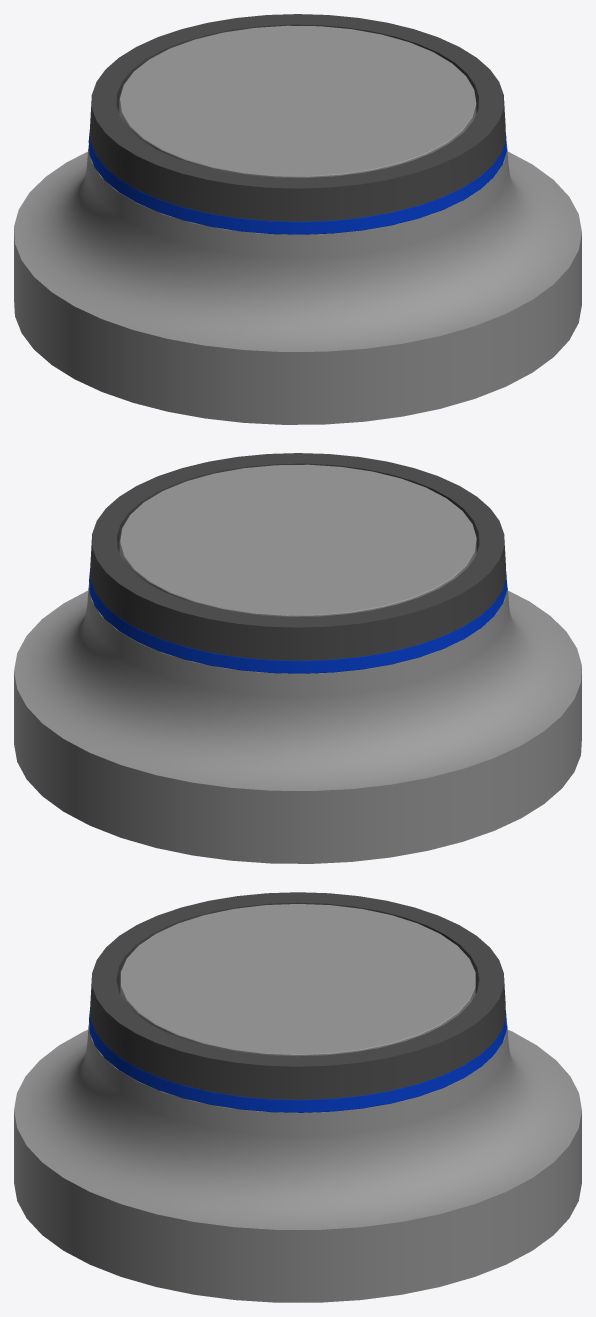
3 views of the same model, one above another, from view 1: azimuth 30°, elevation 25°; view 2: azimuth 150°, elevation 25°; view 3: azimuth 270°, elevation 25° (orthographic).
Parts seen in each view (by area): view 1: S5-FBXASC194FBXASC181FBXASC195FBXASC151FBXASC195FBXASC151FBX, FBXASC195FBXASC141FBXASC194FBXASC185FBXASC195FBXASC140FBXASC, S5-FBXASC194FBXASC181FBXASC195FBXASC134FBXASC194FBXASC187FBX; view 2: S5-FBXASC194FBXASC181FBXASC195FBXASC151FBXASC195FBXASC151FBX, FBXASC195FBXASC141FBXASC194FBXASC185FBXASC195FBXASC140FBXASC, S5-FBXASC194FBXASC181FBXASC195FBXASC134FBXASC194FBXASC187FBX; view 3: S5-FBXASC194FBXASC181FBXASC195FBXASC151FBXASC195FBXASC151FBX, FBXASC195FBXASC141FBXASC194FBXASC185FBXASC195FBXASC140FBXASC, S5-FBXASC194FBXASC181FBXASC195FBXASC134FBXASC194FBXASC187FBX.
Boxes of the visible parts, x1=… form: S5-FBXASC194FBXASC181FBXASC195FBXASC151FBXASC195FBXASC151FBX: x1=14, y1=25, x2=581, y2=424; FBXASC195FBXASC141FBXASC194FBXASC185FBXASC195FBXASC140FBXASC: x1=90, y1=14, x2=505, y2=221; S5-FBXASC194FBXASC181FBXASC195FBXASC134FBXASC194FBXASC187FBX: x1=88, y1=130, x2=506, y2=234; S5-FBXASC194FBXASC181FBXASC195FBXASC151FBXASC195FBXASC151FBX: x1=14, y1=464, x2=581, y2=863; FBXASC195FBXASC141FBXASC194FBXASC185FBXASC195FBXASC140FBXASC: x1=90, y1=453, x2=505, y2=660; S5-FBXASC194FBXASC181FBXASC195FBXASC134FBXASC194FBXASC187FBX: x1=89, y1=568, x2=507, y2=673; S5-FBXASC194FBXASC181FBXASC195FBXASC151FBXASC195FBXASC151FBX: x1=14, y1=904, x2=581, y2=1302; FBXASC195FBXASC141FBXASC194FBXASC185FBXASC195FBXASC140FBXASC: x1=90, y1=892, x2=505, y2=1099; S5-FBXASC194FBXASC181FBXASC195FBXASC134FBXASC194FBXASC187FBX: x1=89, y1=1007, x2=506, y2=1112.
Bounding box in the file's own units: 0.162 × 0.1622 × 0.0643.
